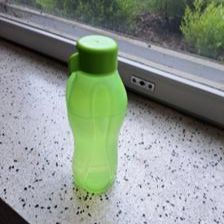bottle: (65, 35, 127, 193)
